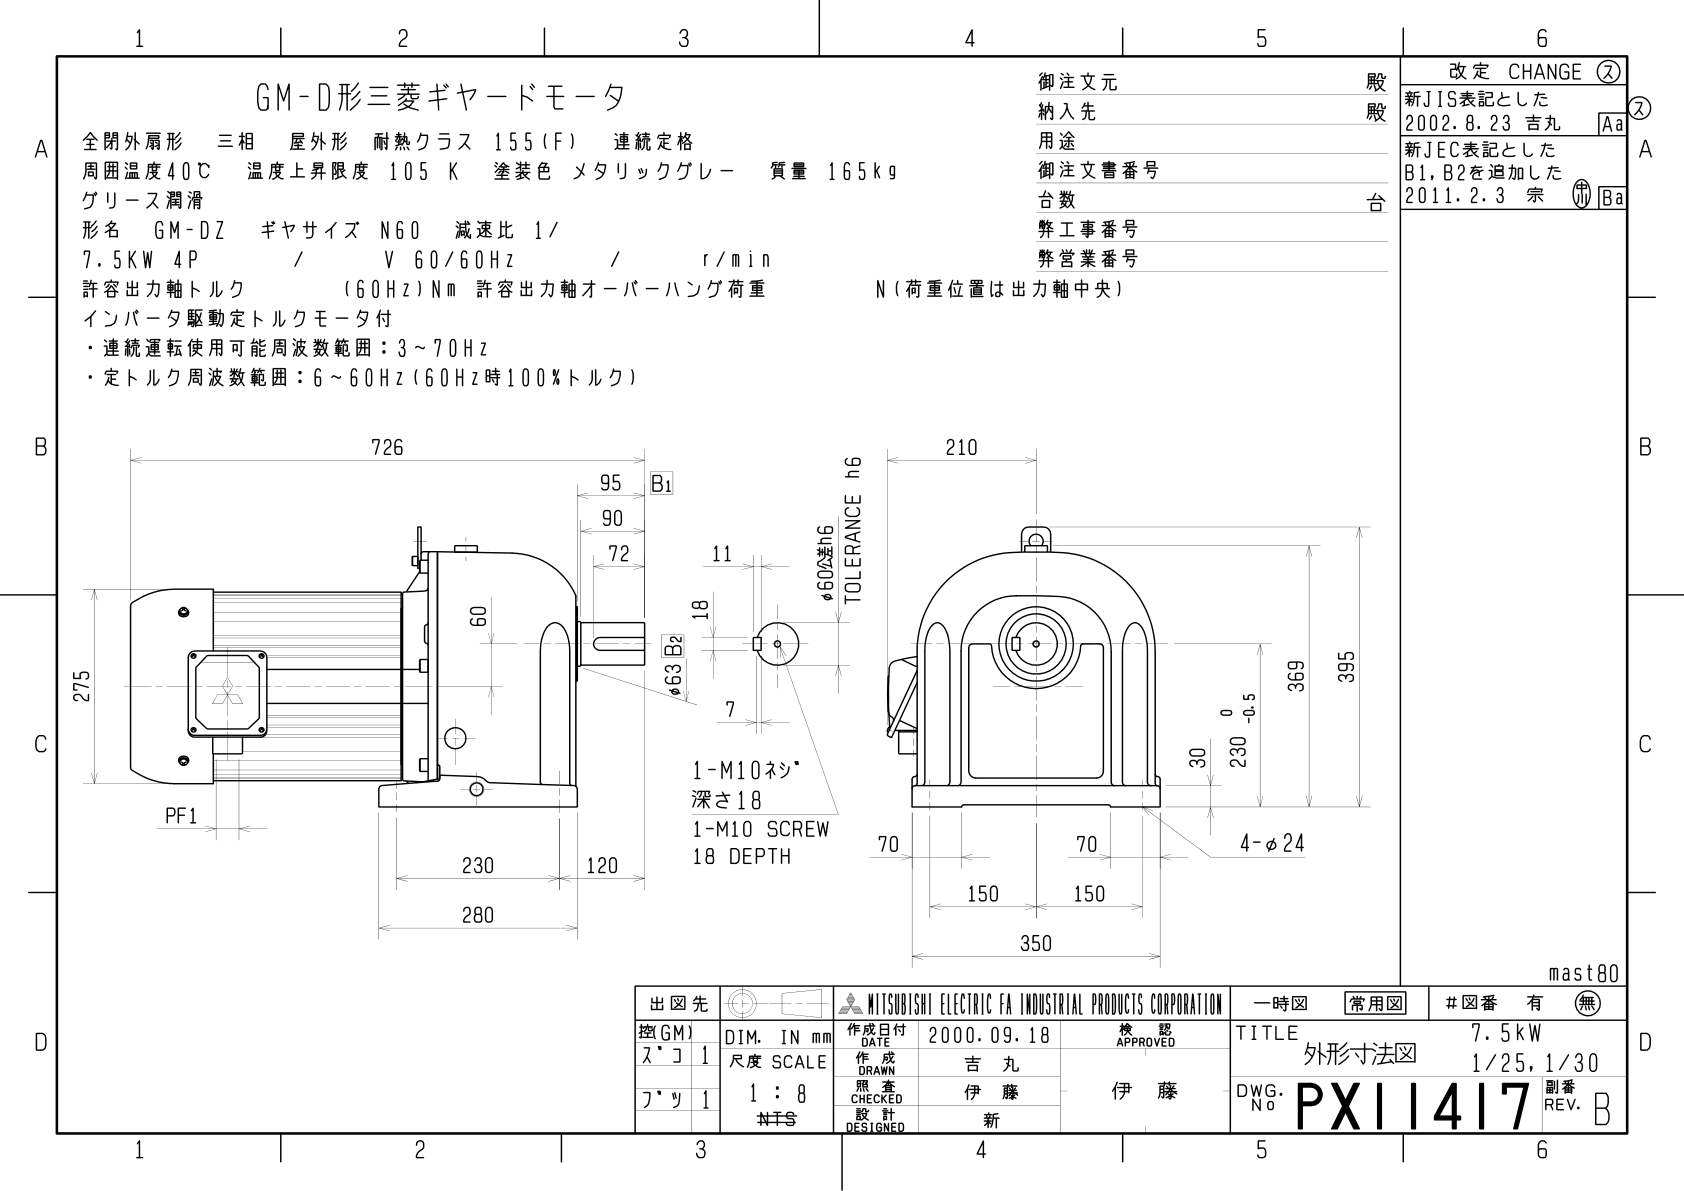GM_D_インバータ屋外_三相_脚: (55, 416, 1389, 969)
